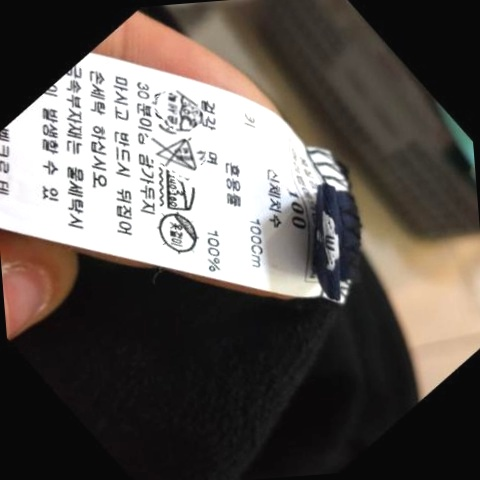hand_wash: (160, 85, 203, 133)
iron_medium: (163, 171, 201, 212)
line_dry_in_shade: (155, 208, 205, 257)
non_chlorine_bleach: (154, 135, 199, 172)
